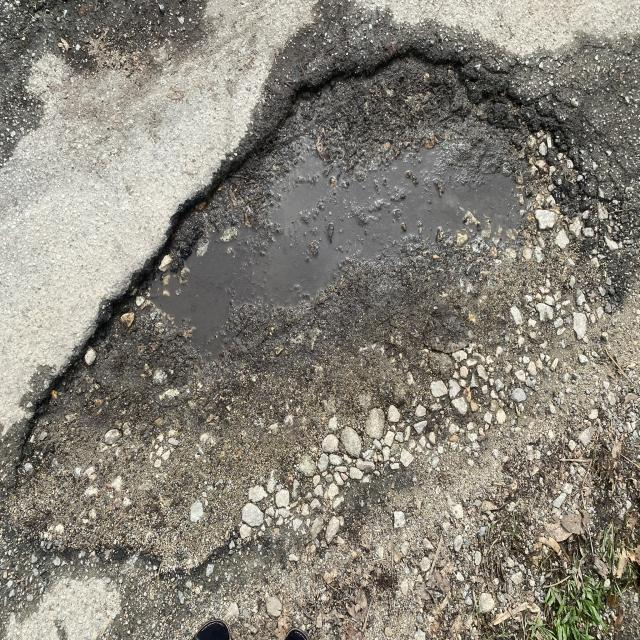pothole: (30, 32, 584, 404)
